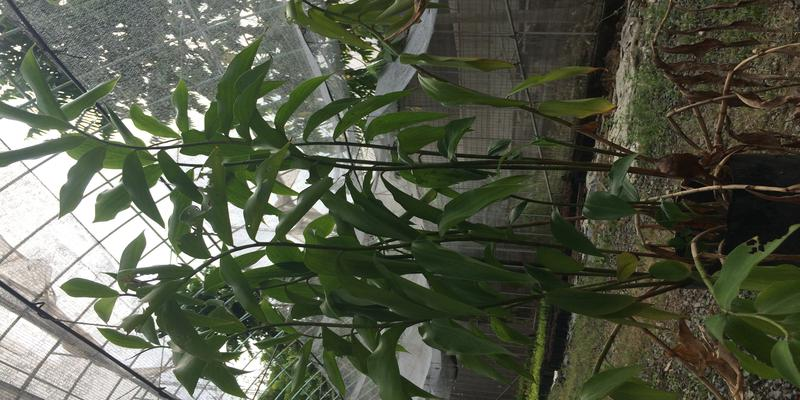Insulin: (53, 93, 724, 328)
